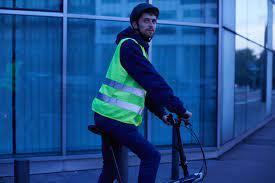Vest: (97, 38, 151, 123)
